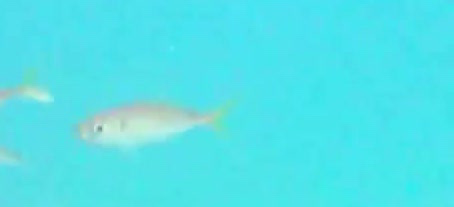azi: (59, 84, 239, 157)
